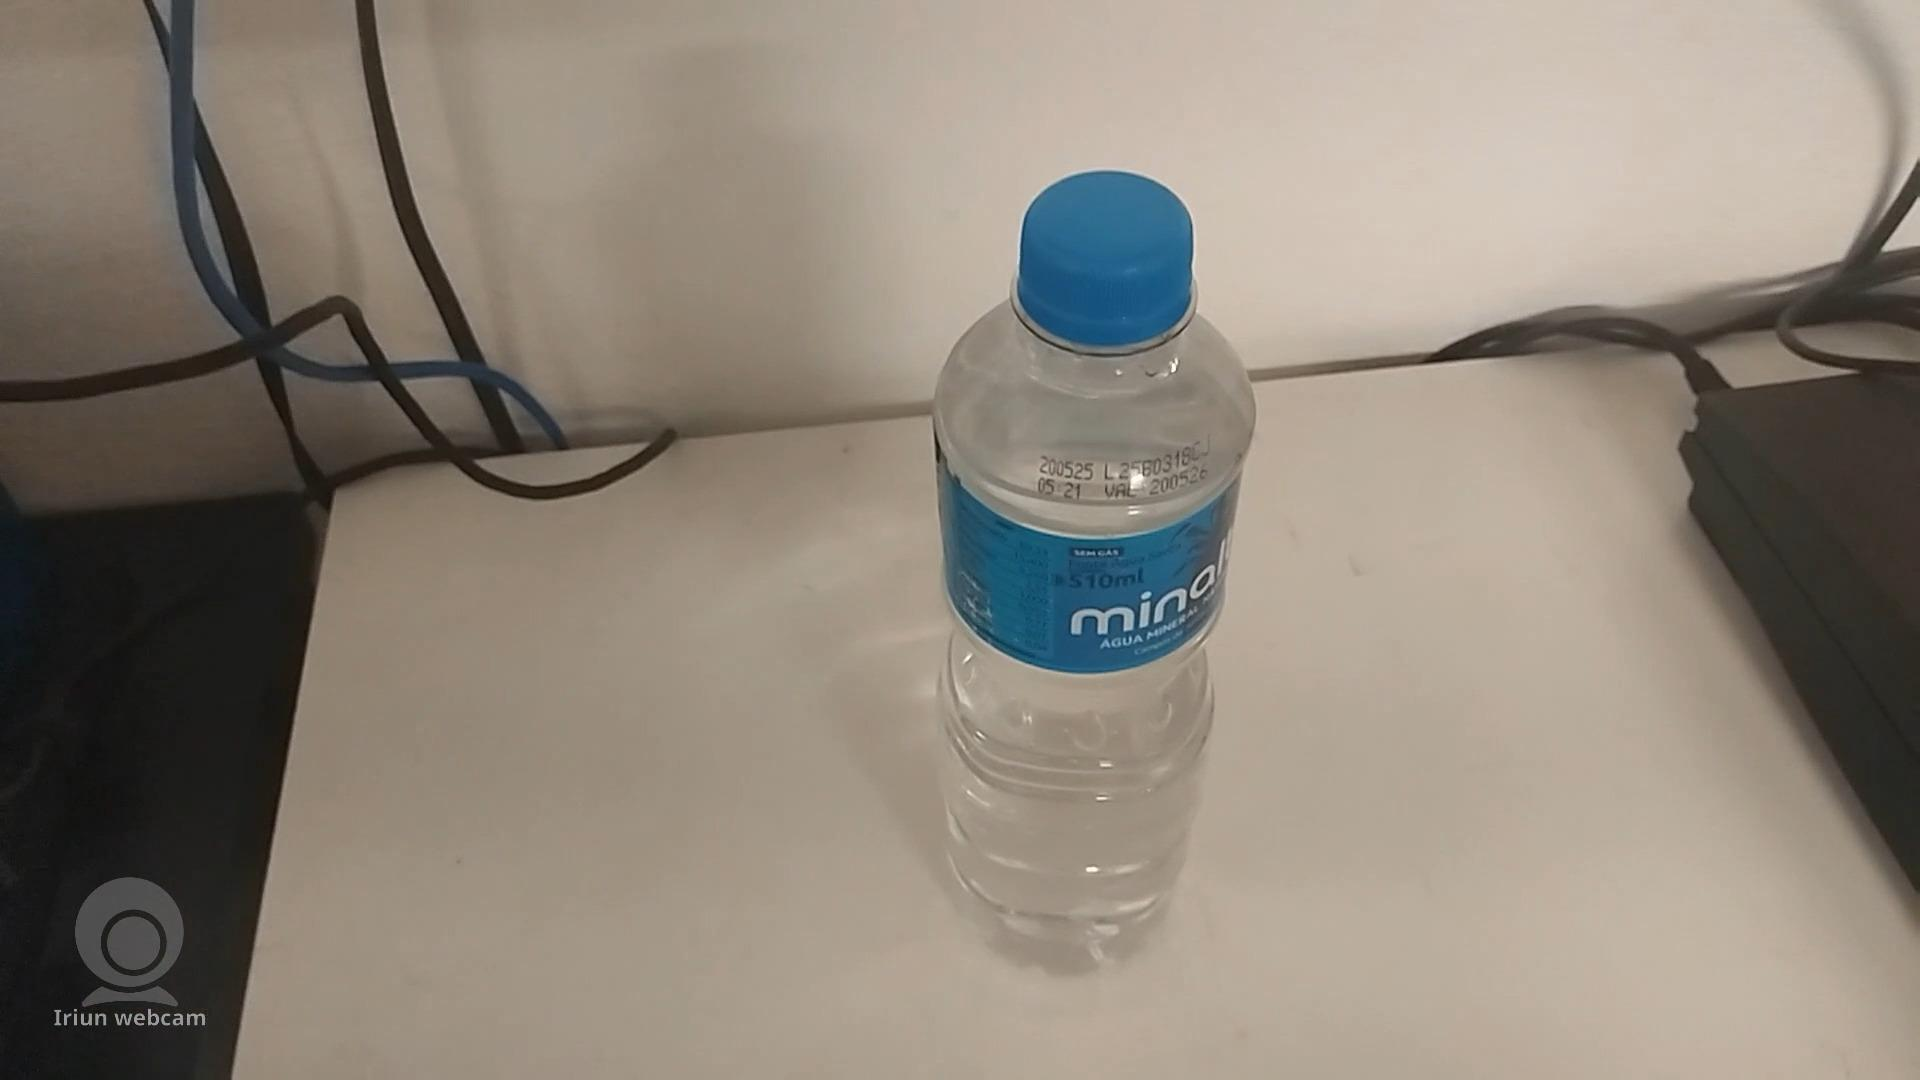agua: (931, 167, 1249, 939)
